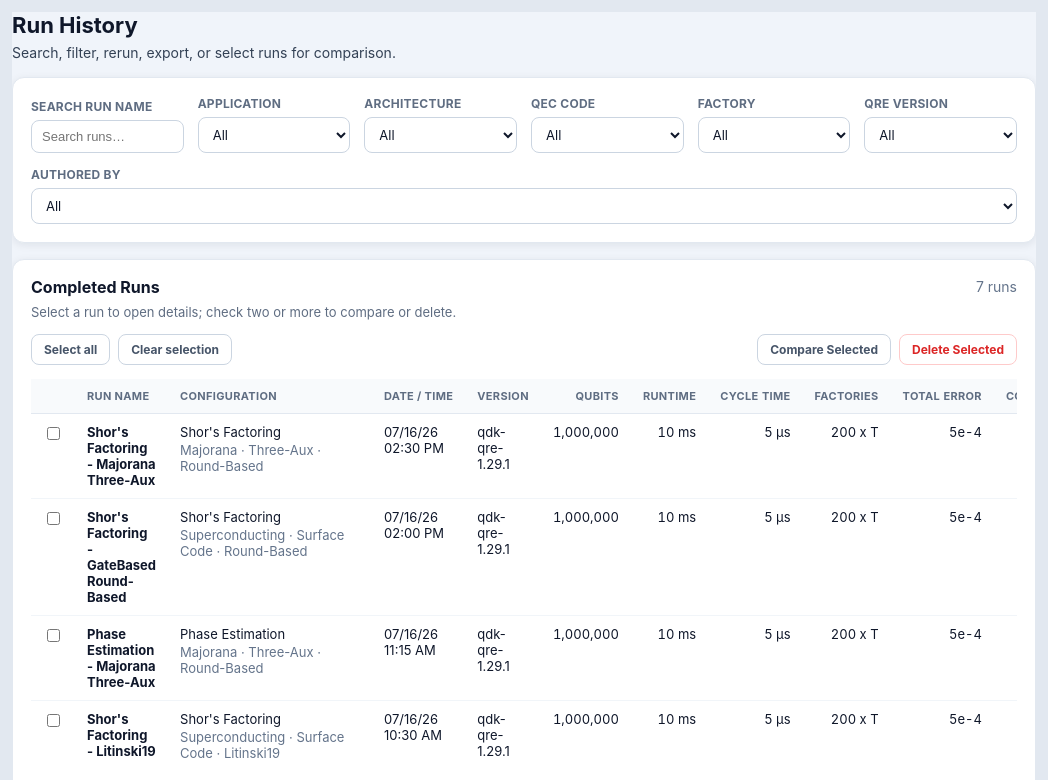
Test case: Compare / Delete Selected popups › navigates to Comparison once two runs are selected
Step 1. Click the checkbox named "Select Shor's Factoring - Litinski19" → click(54, 720), box [47,714,60,727]
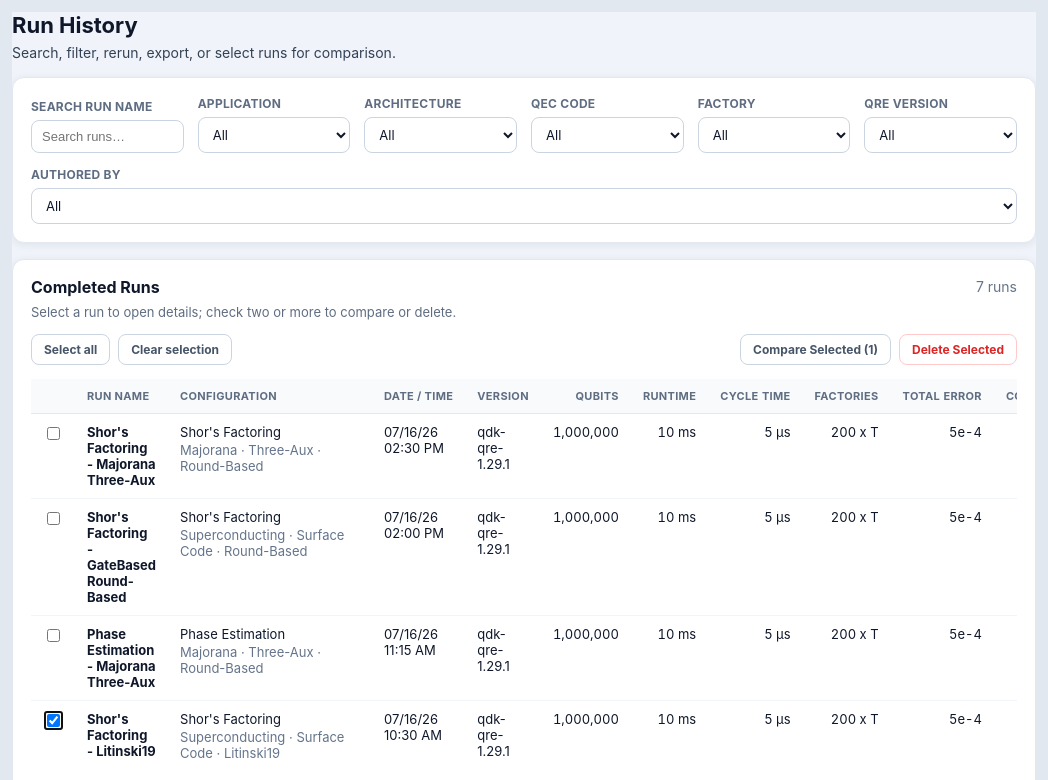
Step 2. Click the checkbox named "Select Shor's Factoring - Majorana Three-Aux" → click(54, 433), box [47,427,60,440]
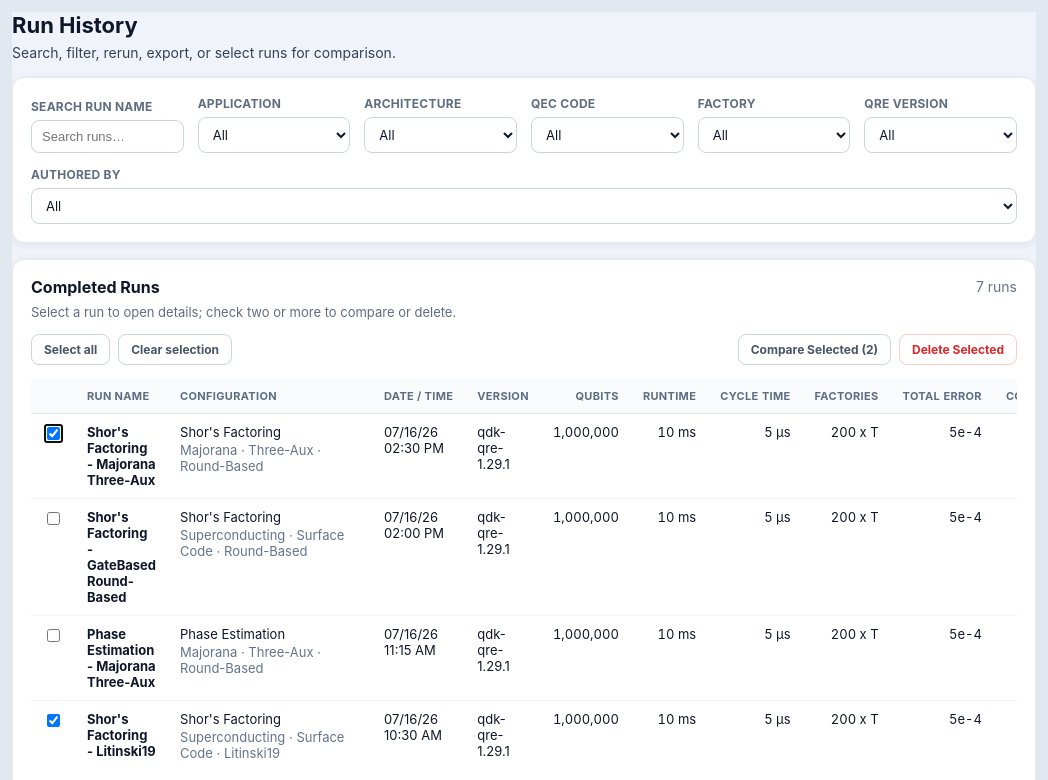
Step 3. Click the button "Compare Selected (2)" → click(814, 349), box [738,334,891,365]
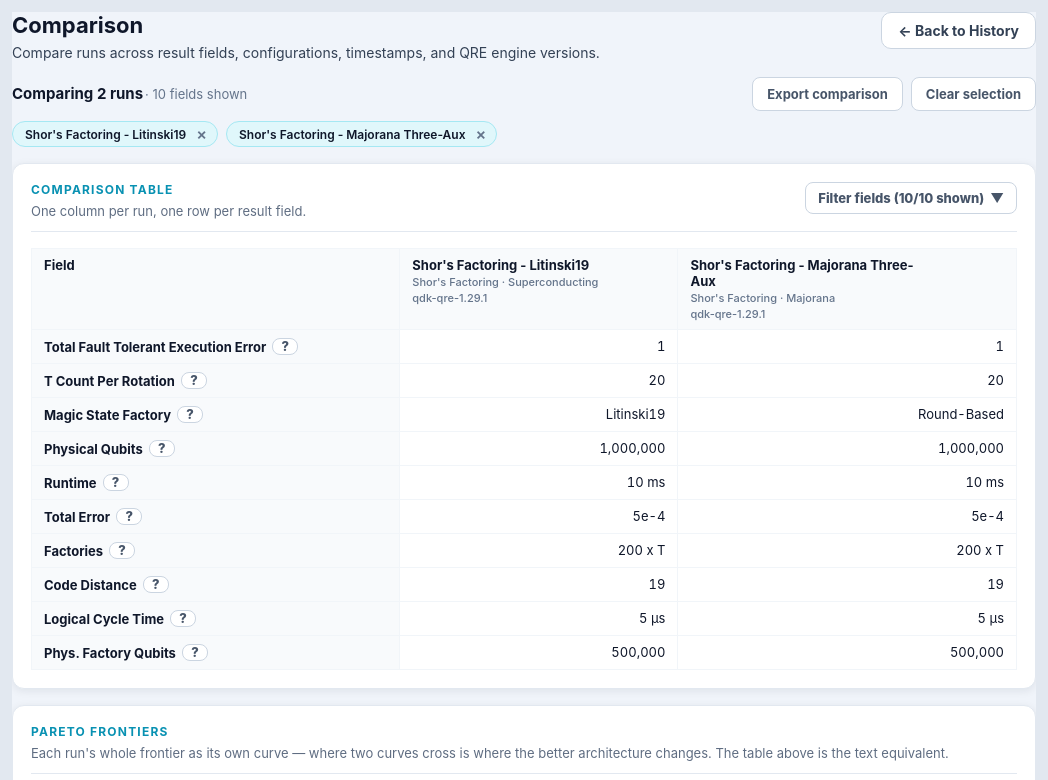
Expected: the text "One column per run, one row per result field." is shown, [31,203,306,219]
